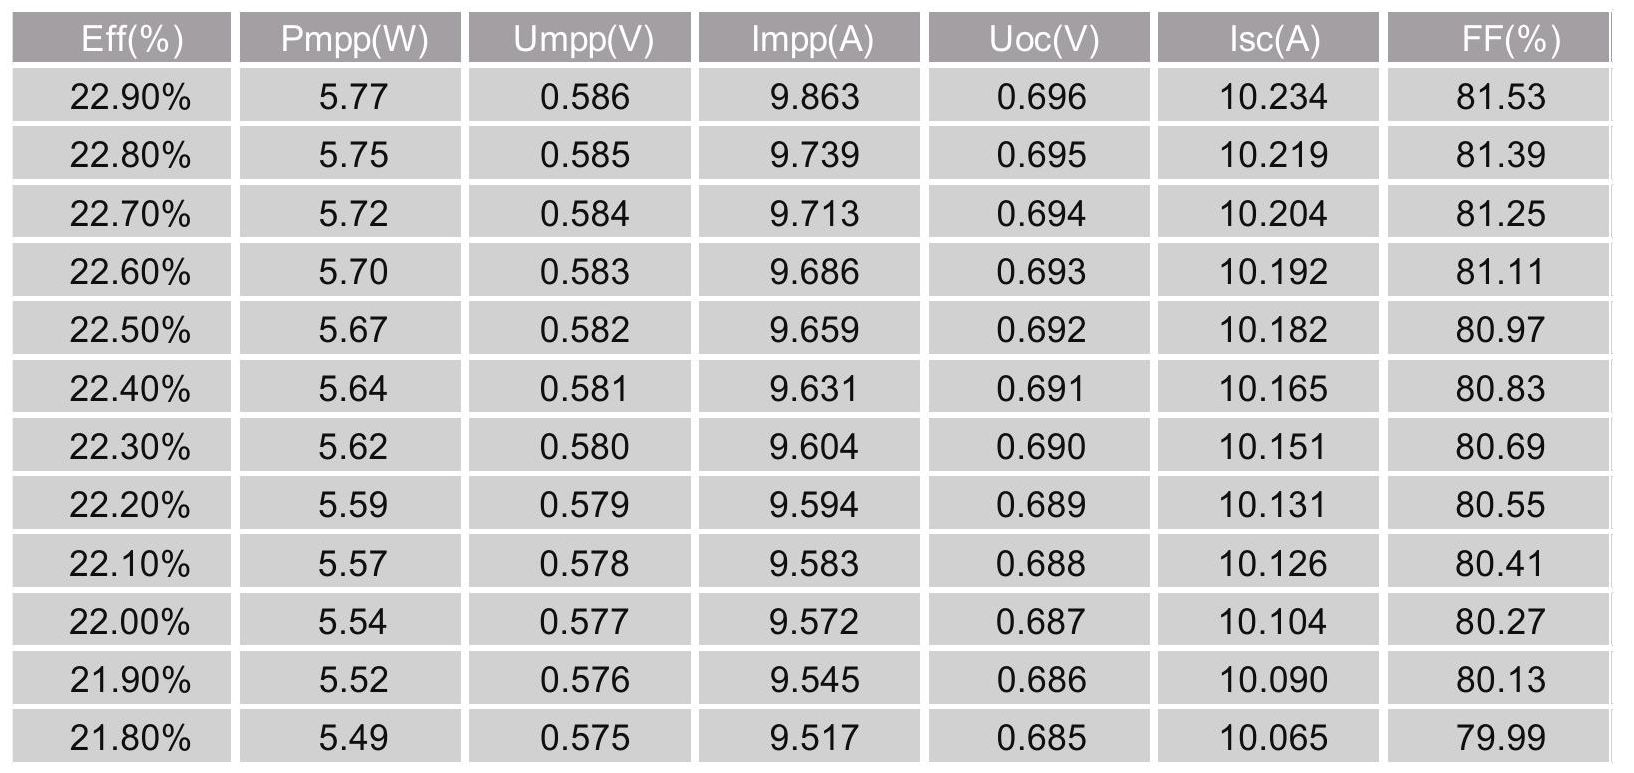table: (4, 6, 1623, 773)
table column: (933, 8, 1145, 766), (474, 9, 685, 767), (1394, 9, 1605, 766), (705, 8, 915, 768), (248, 9, 456, 766), (1168, 8, 1370, 766), (24, 8, 223, 766)
table column header: (13, 14, 1612, 63)
table row: (13, 534, 1612, 587), (14, 303, 1611, 355), (13, 596, 1613, 647), (14, 710, 1613, 760), (14, 655, 1611, 705), (14, 245, 1607, 295), (13, 70, 1613, 119), (17, 420, 1614, 469), (14, 479, 1611, 527), (14, 189, 1608, 236), (16, 364, 1608, 412), (13, 17, 1611, 60), (15, 132, 1611, 175)
